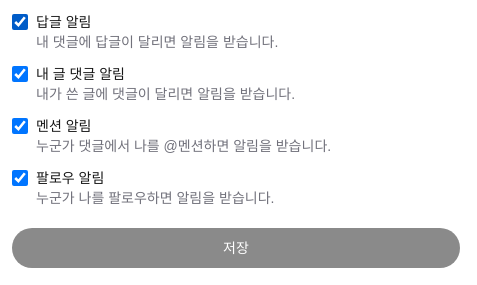
Scenario: NotificationPrefsForm 저장 버튼 dirty 비활성화 › 초기엔 비활성, 토글하면 활성, 원복하면 다시 비활성
The width and height of the screenshot is (477, 285).
Expected: the button "저장" is disabled, [12,228,460,268]
What coordinates should you click on to do the following:
click the checkbox labelled "답글 알림 내 댓글에 답글이 달리면 알림을 받습니다."
I would click on:
 (20, 22)
Its box is [12,14,28,30].
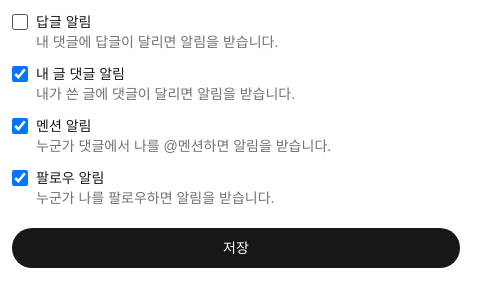
Now the button "저장" is enabled, box [12,228,460,268]
What coordinates should you click on to do the following:
click the checkbox labelled "답글 알림 내 댓글에 답글이 달리면 알림을 받습니다."
I would click on:
 (20, 22)
Its box is [12,14,28,30].
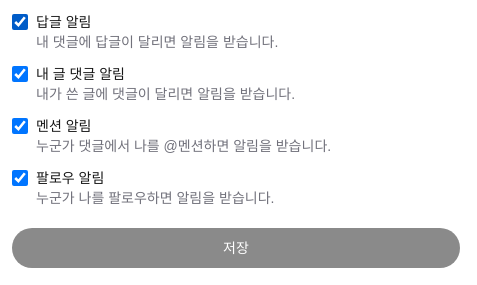
Now the button "저장" is disabled, box [12,228,460,268]
